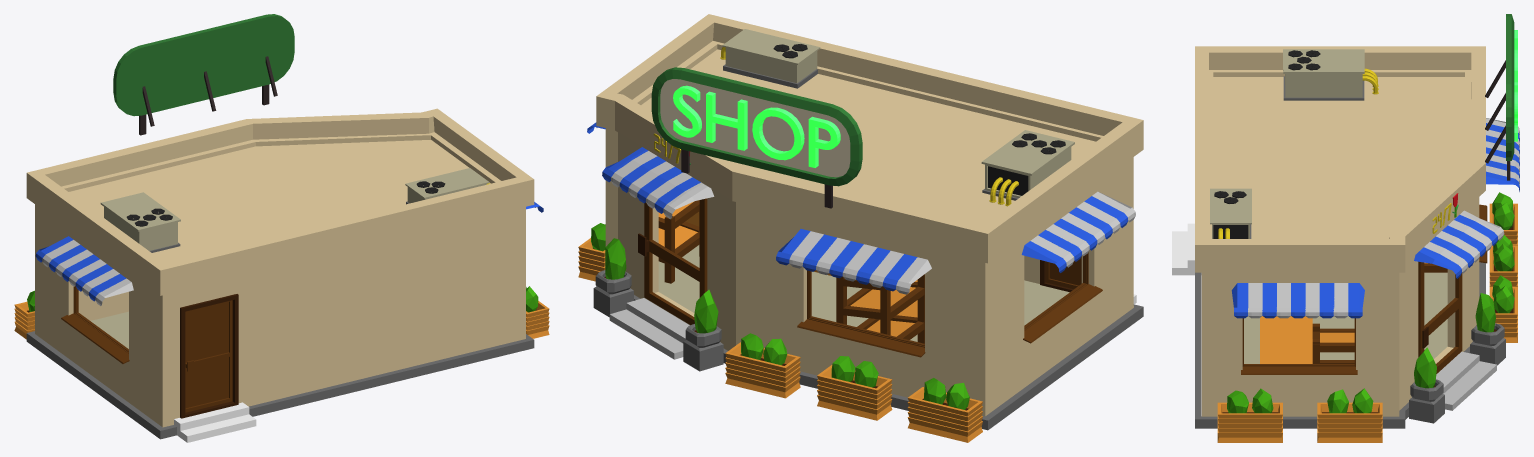
File: shop-flower-a_night.glb
3 views of the same model, side by side, from view 1: azimuth 30°, elevation 25°; view 2: azimuth 150°, elevation 25°; view 3: azimuth 270°, elevation 25° (orthographic). The views are drawn at different scales.
Parts seen in each view (by area): view 1: part_1, part_20, part_4, part_2, part_3, part_14, part_0, part_6, part_7, part_15, part_18, part_16; view 2: part_1, part_15, part_4, part_3, part_6, part_19, part_7, part_2, part_20, part_9, part_17, part_12 (+2 smaller); view 3: part_1, part_15, part_3, part_6, part_7, part_2, part_9, part_4, part_20, part_16, part_0, part_18 (+4 smaller).
Part boxes in pixels (left/top/right/bottom): part_1: left=26, top=108, right=534, bottom=427; part_20: left=113, top=14, right=294, bottom=116; part_4: left=61, top=286, right=232, bottom=412; part_2: left=26, top=201, right=534, bottom=439; part_3: left=91, top=168, right=489, bottom=348; part_14: left=27, top=294, right=536, bottom=418; part_0: left=174, top=402, right=256, bottom=442; part_6: left=42, top=207, right=536, bottom=305; part_7: left=35, top=202, right=543, bottom=301; part_15: left=14, top=301, right=549, bottom=339; part_18: left=139, top=56, right=277, bottom=135; part_16: left=126, top=181, right=445, bottom=226; part_1: left=596, top=14, right=1143, bottom=416; part_15: left=578, top=201, right=982, bottom=442; part_4: left=644, top=198, right=1102, bottom=347; part_3: left=658, top=29, right=1074, bottom=341; part_6: left=596, top=127, right=1135, bottom=359; part_19: left=660, top=79, right=850, bottom=177; part_7: left=587, top=122, right=1128, bottom=291; part_2: left=593, top=64, right=1143, bottom=430; part_20: left=651, top=67, right=862, bottom=186; part_9: left=591, top=223, right=969, bottom=409; part_17: left=673, top=85, right=840, bottom=167; part_12: left=797, top=288, right=925, bottom=357; part_1: left=1195, top=46, right=1485, bottom=416; part_15: left=1217, top=203, right=1517, bottom=442; part_3: left=1210, top=49, right=1447, bottom=363; part_6: left=1248, top=118, right=1519, bottom=410; part_7: left=1231, top=123, right=1519, bottom=318; part_2: left=1195, top=76, right=1505, bottom=428; part_9: left=1227, top=192, right=1514, bottom=413; part_4: left=1241, top=261, right=1462, bottom=374; part_20: left=1506, top=14, right=1514, bottom=160; part_16: left=1213, top=50, right=1320, bottom=238; part_0: left=1172, top=223, right=1201, bottom=275; part_18: left=1485, top=60, right=1510, bottom=180.
Bounding box in the file's own units: 6.23 × 3.58 × 4.03.
